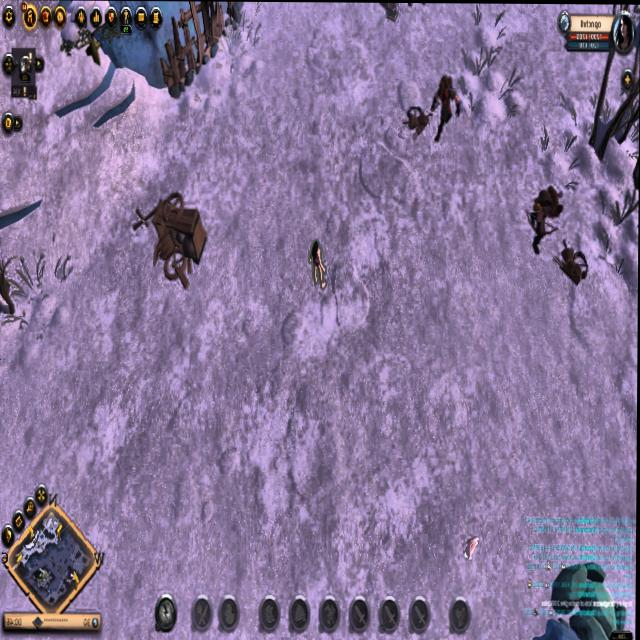mob: (524, 177, 568, 259), (429, 74, 463, 150)
